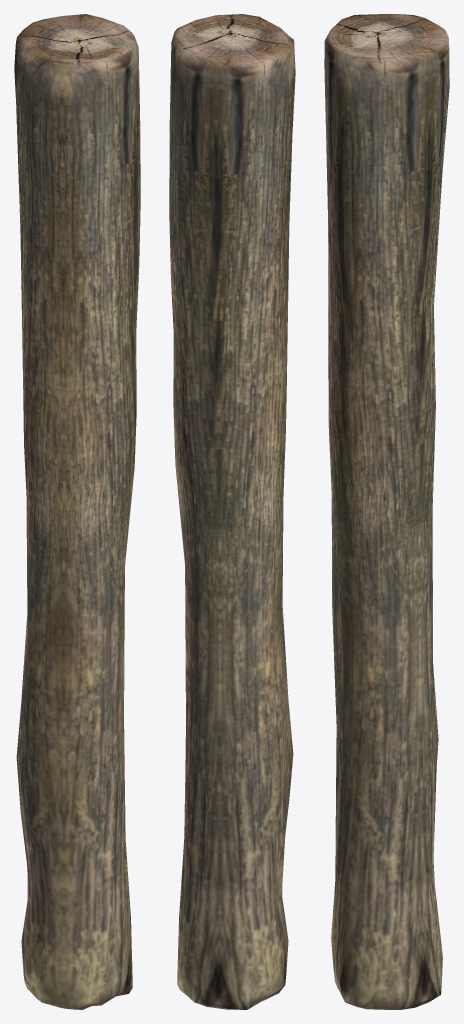
Rendered from wooden-log-01.glb.
The picture shows the model from 3 angles, left to right: view 1: azimuth 30°, elevation 25°; view 2: azimuth 210°, elevation 25°; view 3: azimuth 270°, elevation 25°; orthographic projection.
Visible parts, largest first — view 1: Object_2; view 2: Object_2; view 3: Object_2.
Part boxes in pixels (x1=…): Object_2: x1=14, y1=14, x2=140, y2=1009; Object_2: x1=169, y1=14, x2=295, y2=1009; Object_2: x1=324, y1=14, x2=449, y2=1009.
Size of the model in its own units: 25.92 by 215 by 25.52.
Materials: 1 (1 with a texture image).
